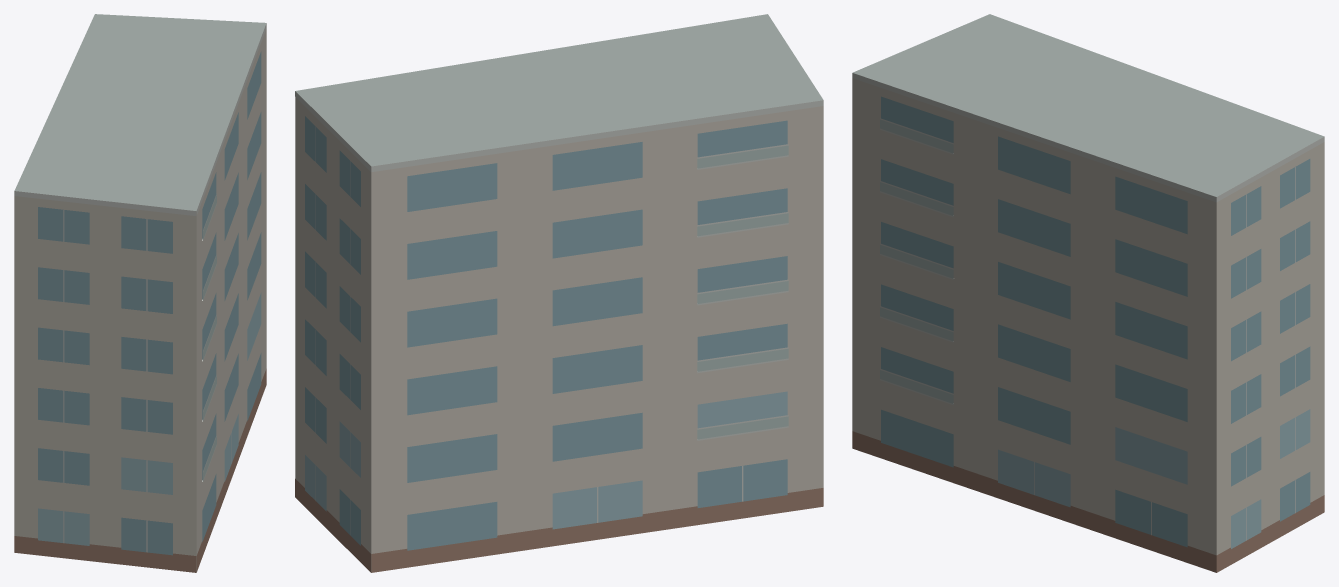
Rendered from survey-upis-32539904.glb.
The picture shows the model from 3 angles, left to right: view 1: azimuth 30°, elevation 25°; view 2: azimuth 150°, elevation 25°; view 3: azimuth 270°, elevation 25°; orthographic projection. The views are drawn at different scales.
Parts seen in each view (by area): view 1: survey-upis-32539904.tmp; view 2: survey-upis-32539904.tmp; view 3: survey-upis-32539904.tmp.
Boxes of the visible parts, bbox=[...] form: survey-upis-32539904.tmp: bbox=[14, 14, 266, 572]; survey-upis-32539904.tmp: bbox=[295, 14, 823, 572]; survey-upis-32539904.tmp: bbox=[852, 14, 1324, 572].
Size of the model in its own units: 18.2 by 17.4 by 19.83.
